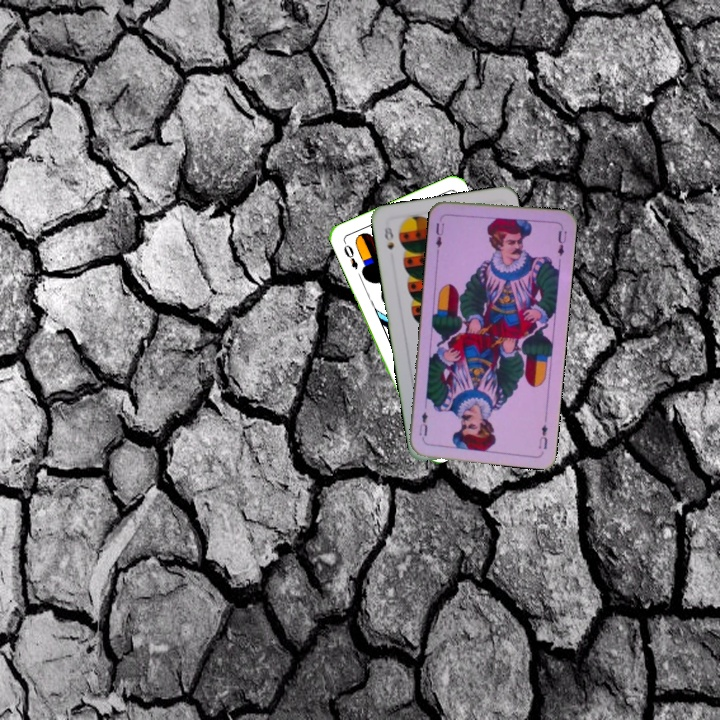EO: (339, 238, 361, 272)
EU: (431, 213, 447, 254), (535, 421, 550, 452)
S8: (380, 223, 396, 252)
